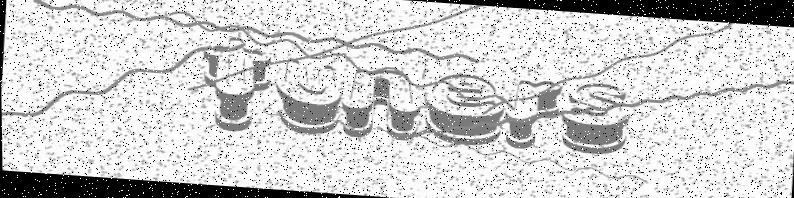e: (421, 71, 506, 146)
n: (339, 67, 422, 142)
r: (504, 79, 564, 151)
s: (559, 82, 631, 156)
t: (199, 37, 272, 134)
u: (273, 58, 344, 137)
